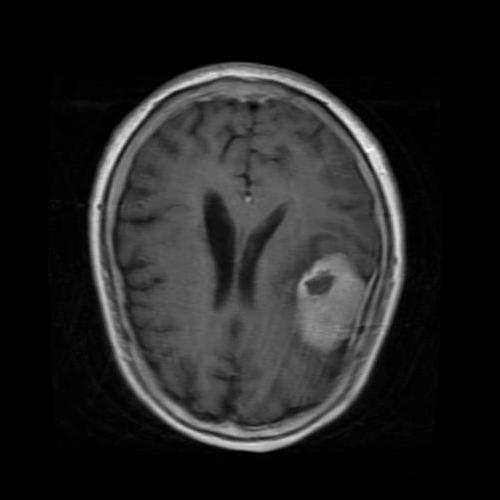Tumour-Meningioma: (279, 230, 380, 381)
